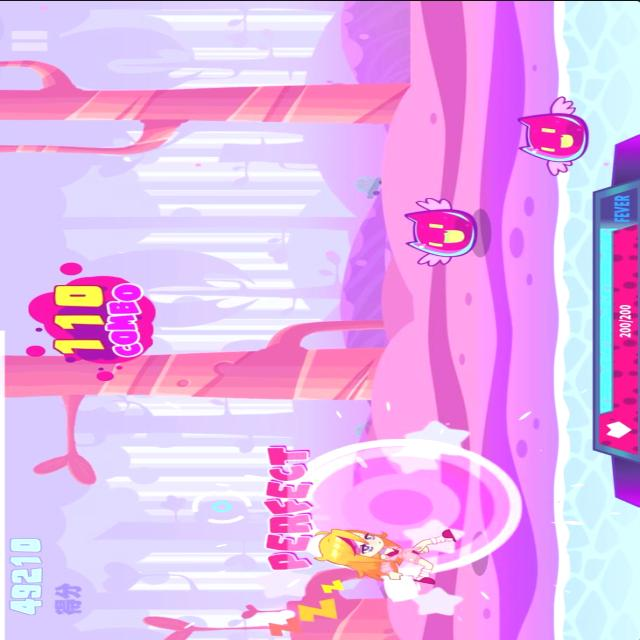mao: (506, 93, 592, 177), (391, 195, 479, 265)
